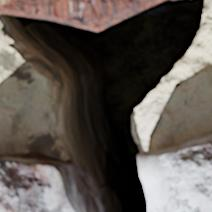brick: (0, 0, 160, 30)
broken_brick: (139, 133, 211, 211), (0, 151, 76, 211)
crack: (1, 0, 209, 211)
